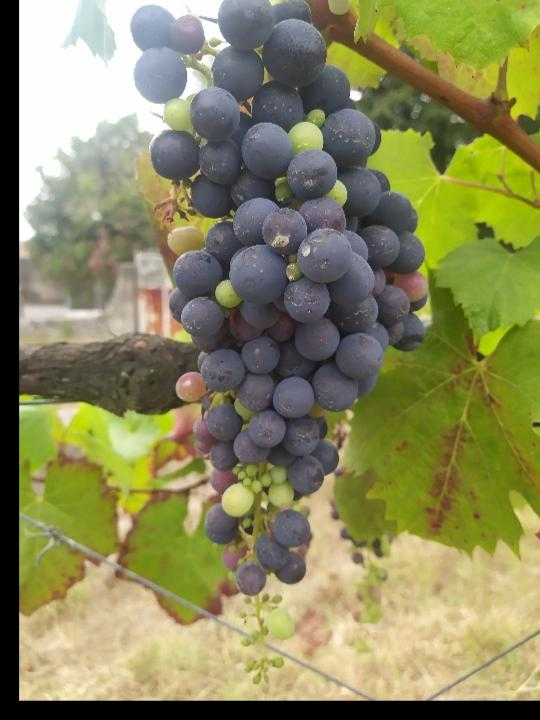grape: (129, 0, 429, 689)
